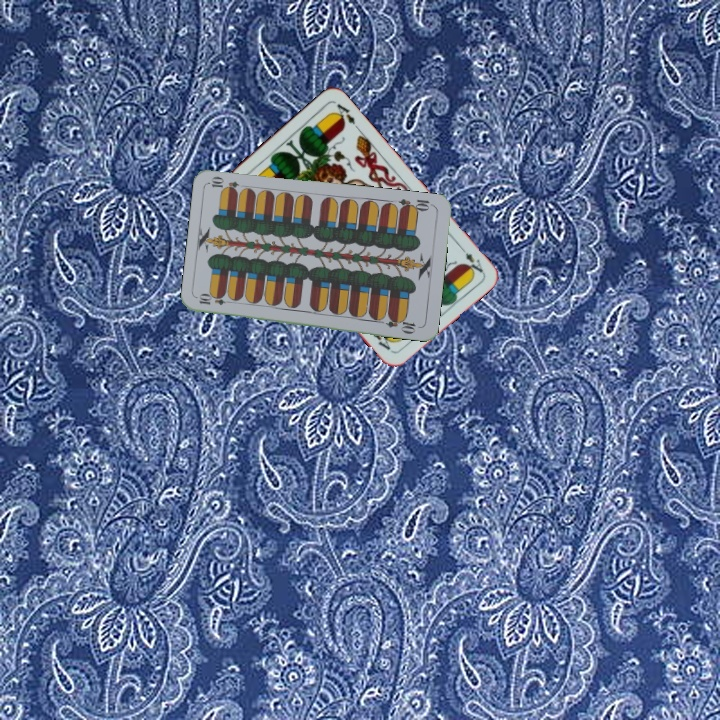E10: (395, 195, 436, 214), (195, 292, 236, 308)
EA: (455, 242, 486, 276)
